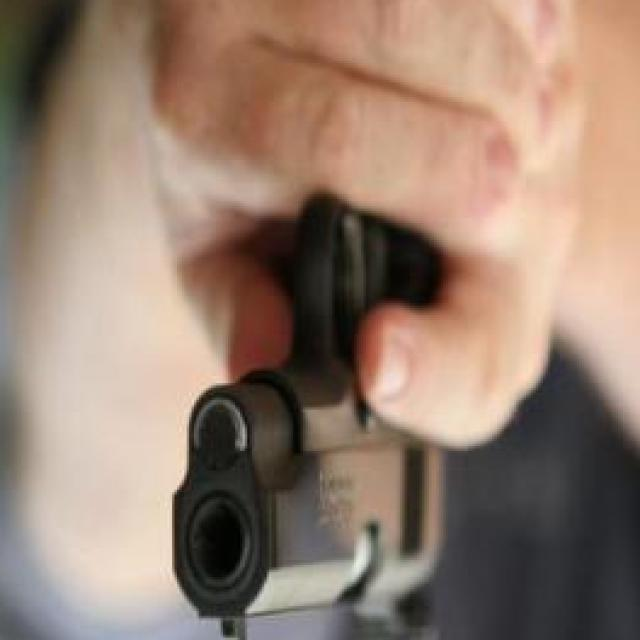pistol: (165, 182, 448, 640)
